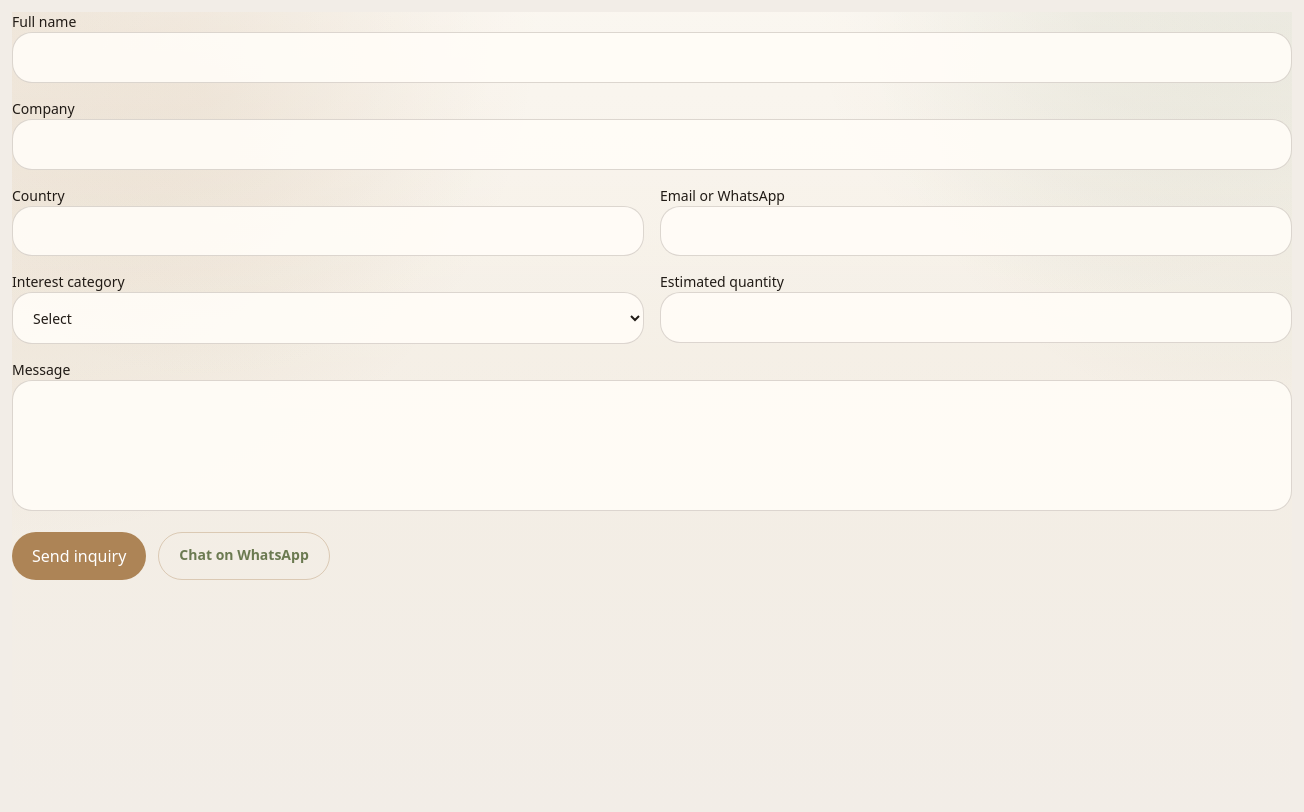
InquiryForm › submits inquiries to the hosted backend endpoint
The image size is (1304, 812).
Type "Amina Noor" into the field labelled "Full name" at (652, 57), box [12,32,1292,83]
Type "Noor Retail Group" into the field labelled "Company" at (652, 144), box [12,119,1292,170]
Type "UAE" into the field labelled "Country" at (328, 231), box [12,206,644,256]
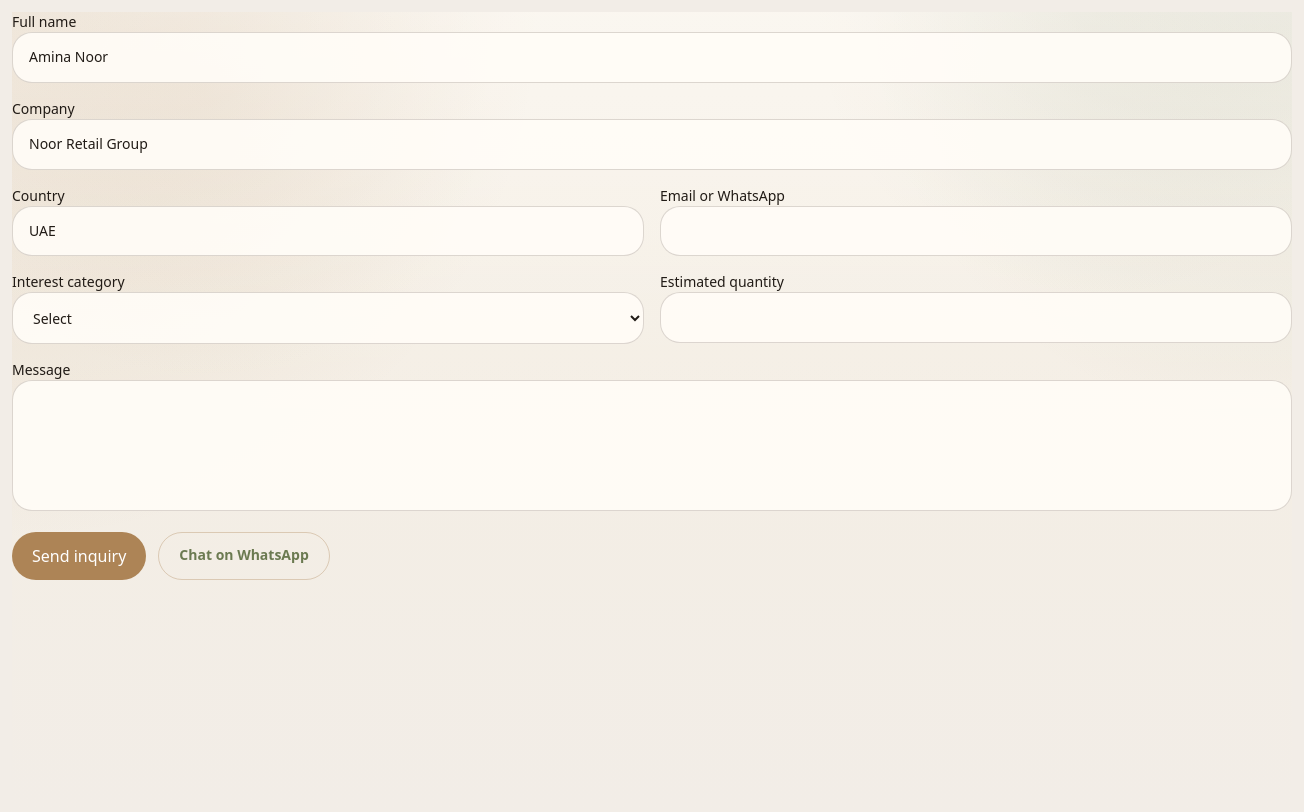
Type "amina@example.com" into the field labelled "Email or WhatsApp" at (976, 231), box [660,206,1292,256]
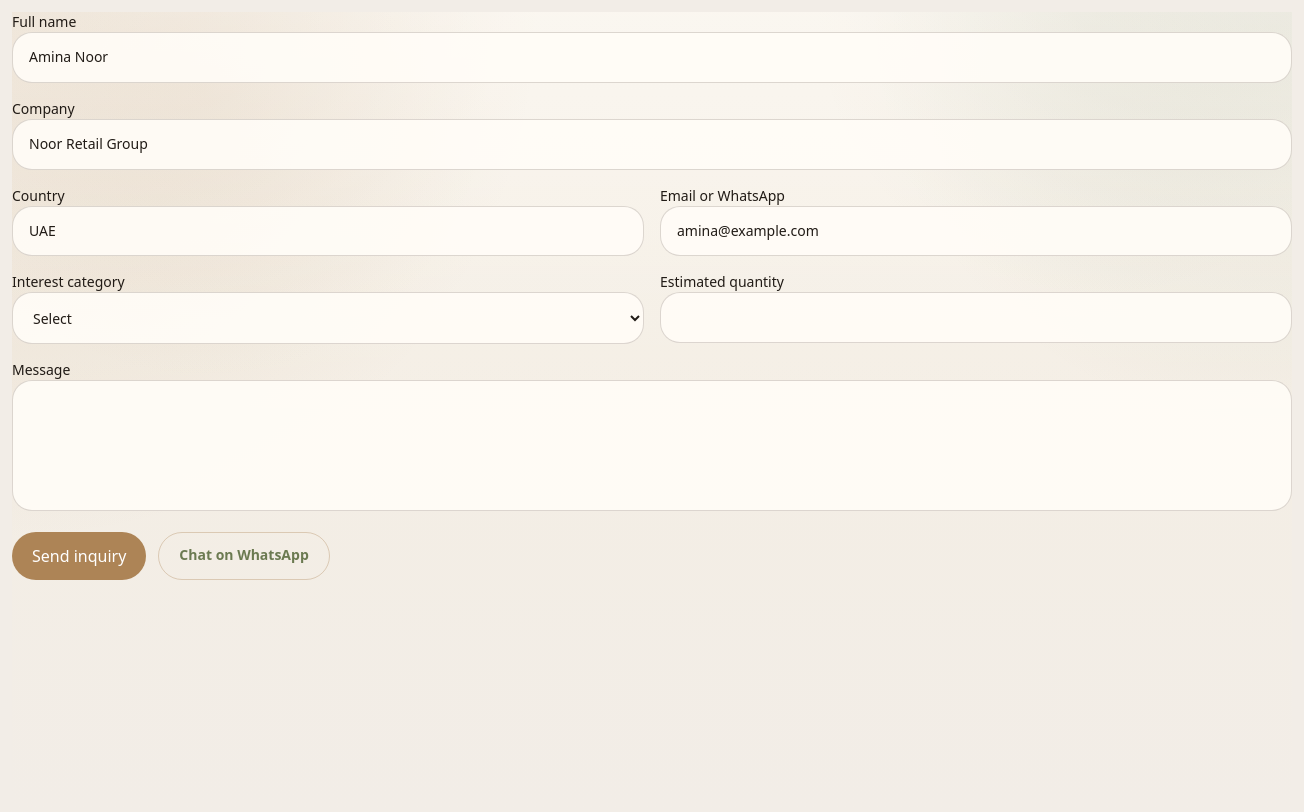
Select "Tasbih" in the dropdown labelled "Interest category" at (328, 318), box [12,292,644,344]
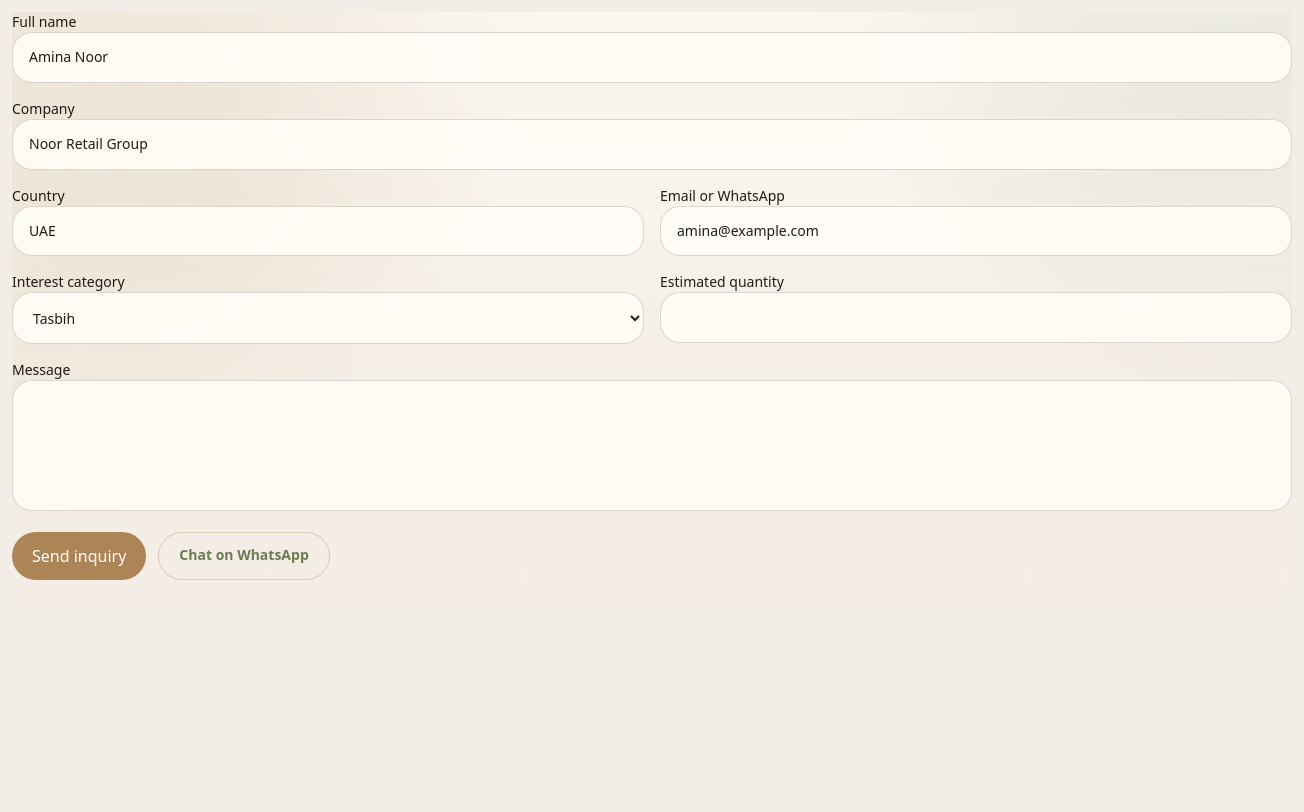
Type "500 pieces" into the field labelled "Estimated quantity" at (976, 318), box [660,292,1292,343]
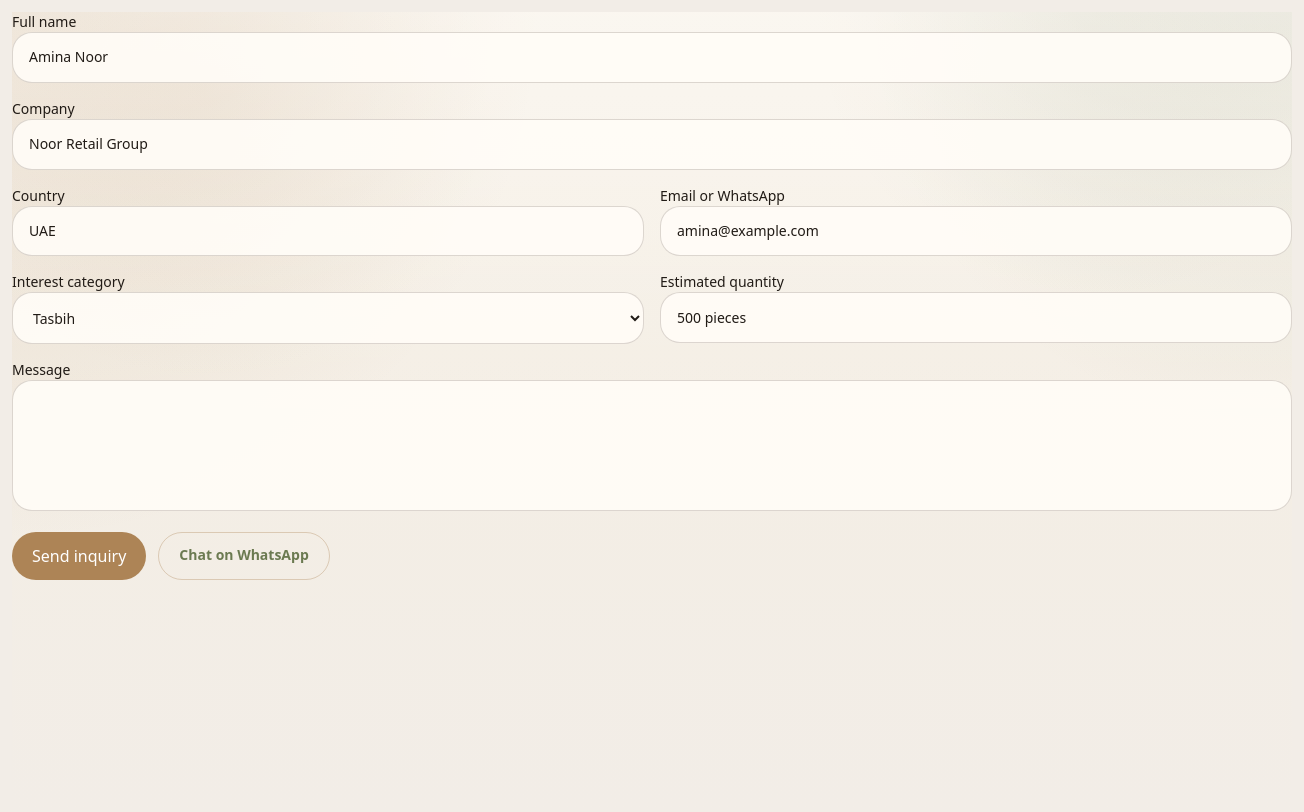
Type "We want a premium sandalwood tasbih assortment." into the text box labelled "Message" at (652, 446), box [12,380,1292,511]
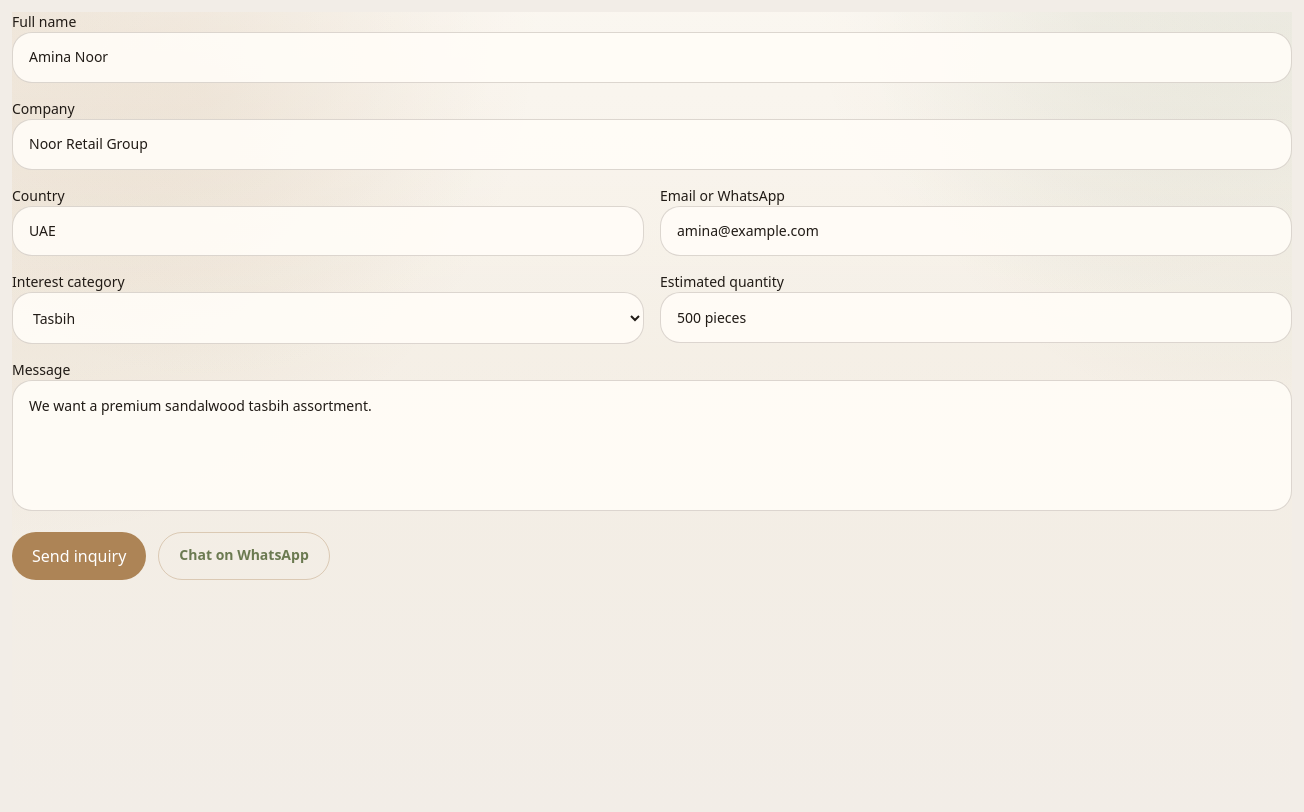
Click the button "Send inquiry" at (79, 556), box [12,532,146,580]
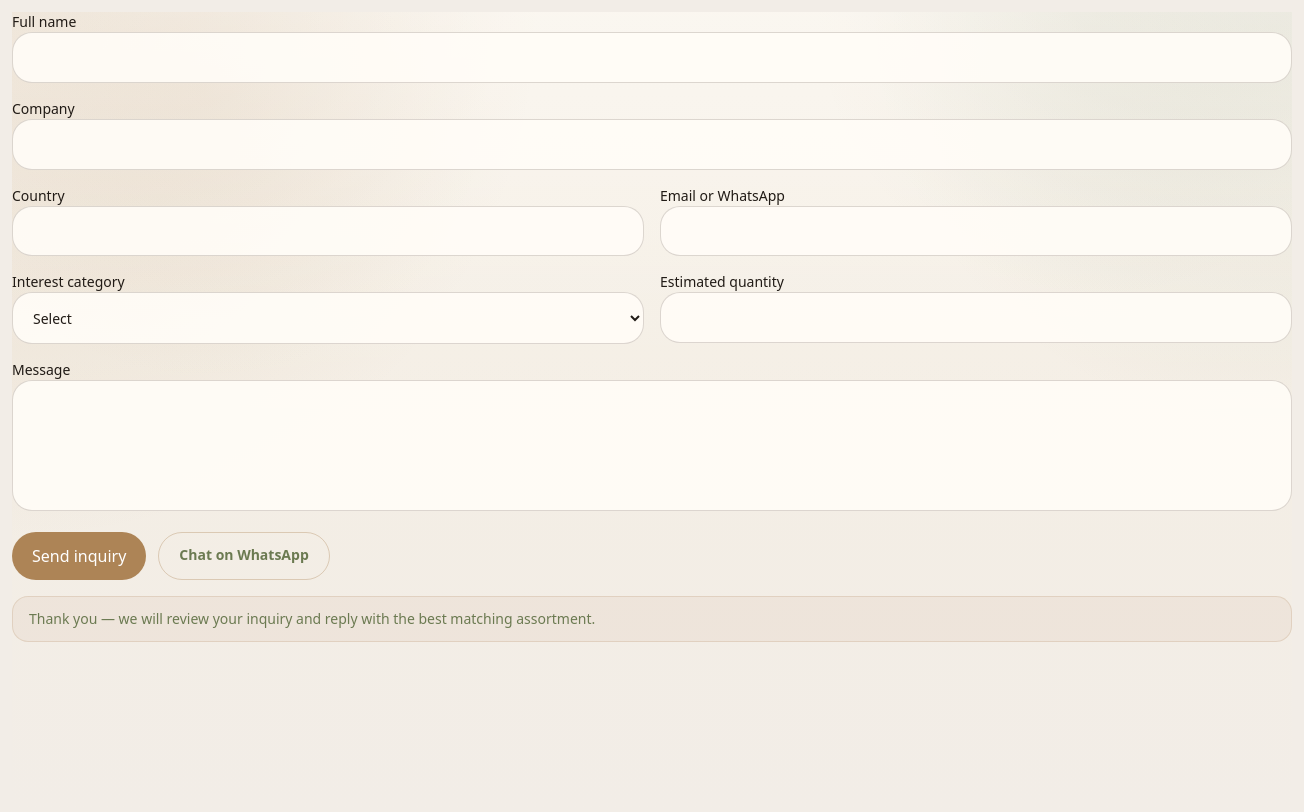
Expected: the text "Thank you — we will review your inquiry" is shown, [29,609,595,628]
